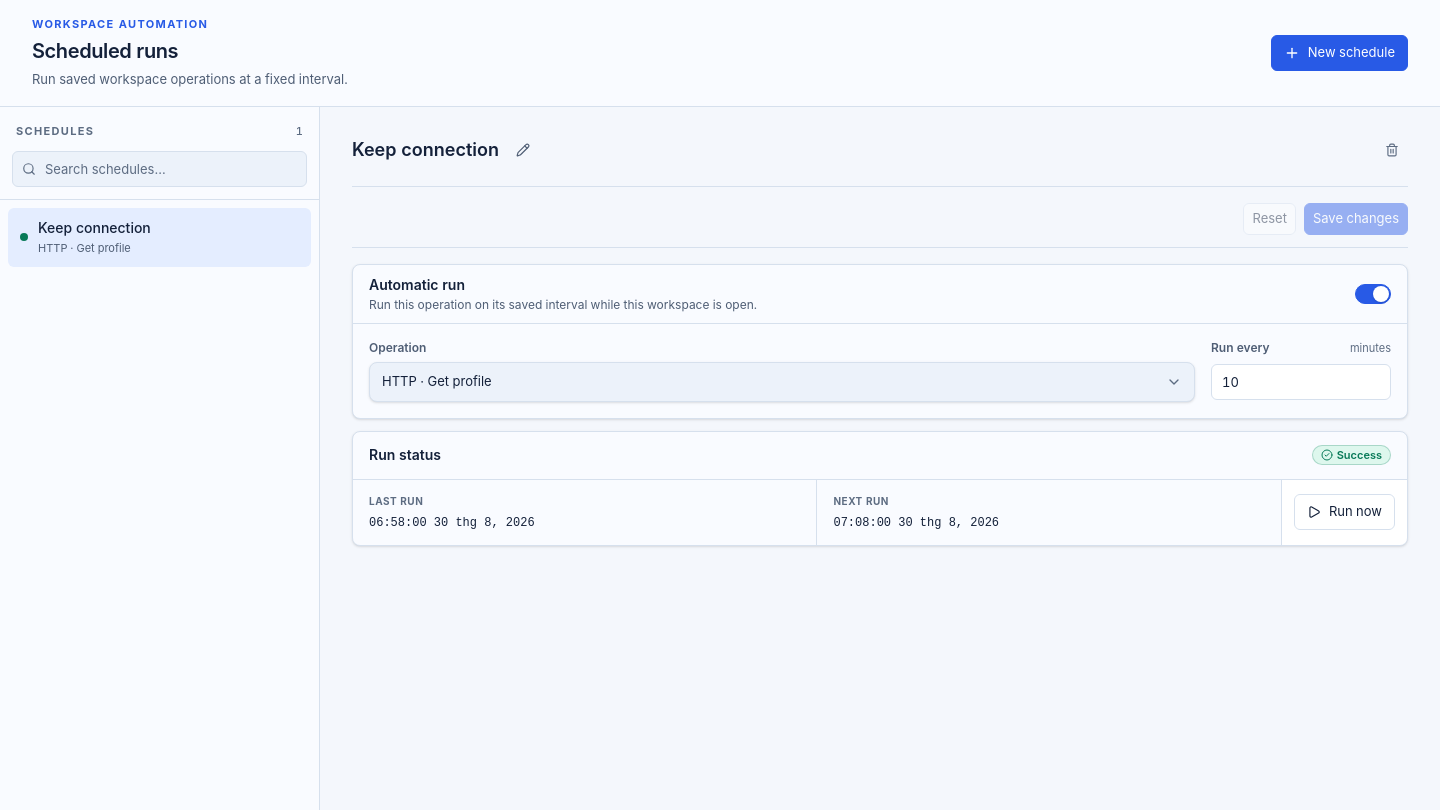
it: Scheduled runs › keeps edits as a draft until Save changes
The width and height of the screenshot is (1440, 810).
Click the button named "Rename schedule": point(523, 150) x1=507 y1=134 x2=539 y2=166
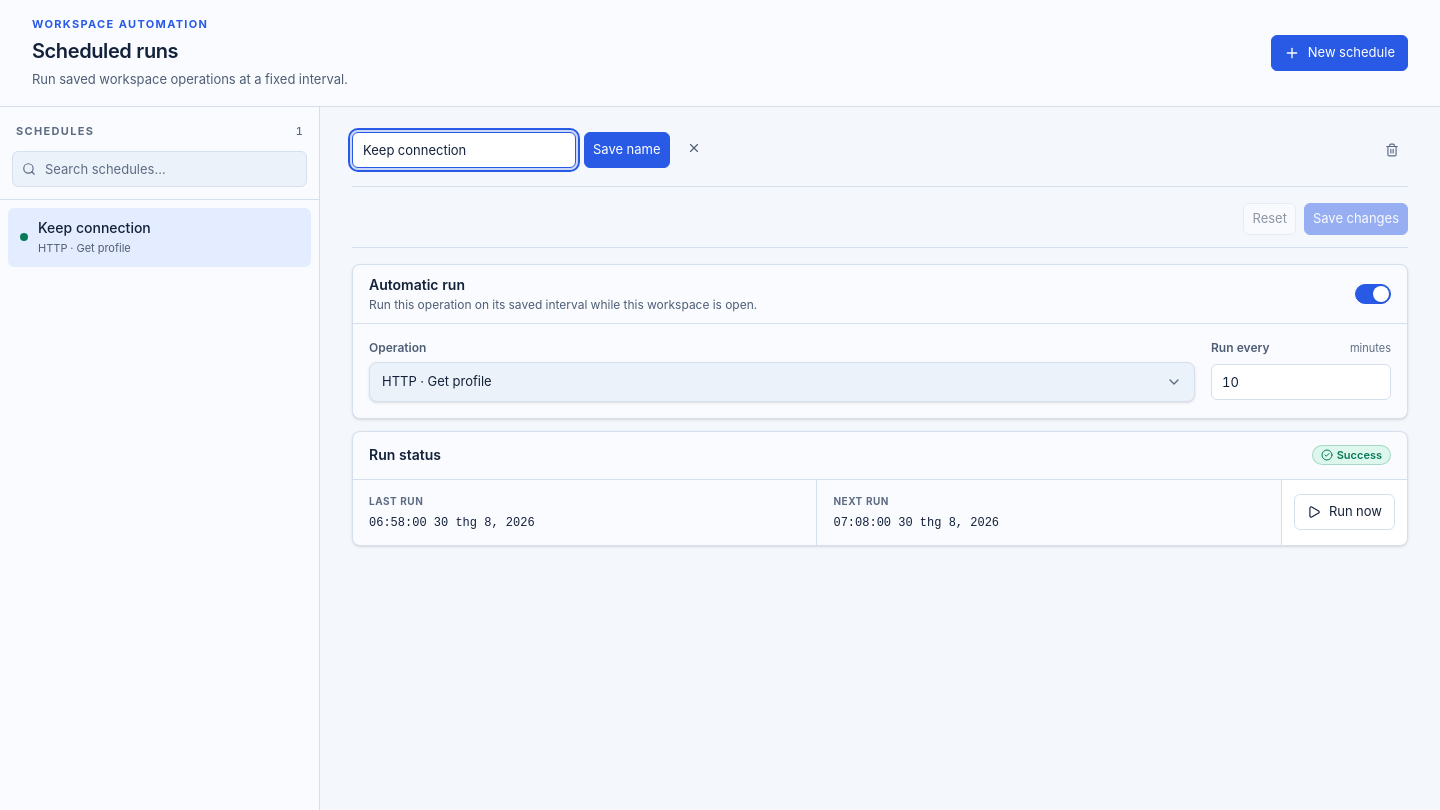
Replace the text in the field named "Schedule name" with "Refresh session": point(464, 150) x1=352 y1=132 x2=576 y2=168
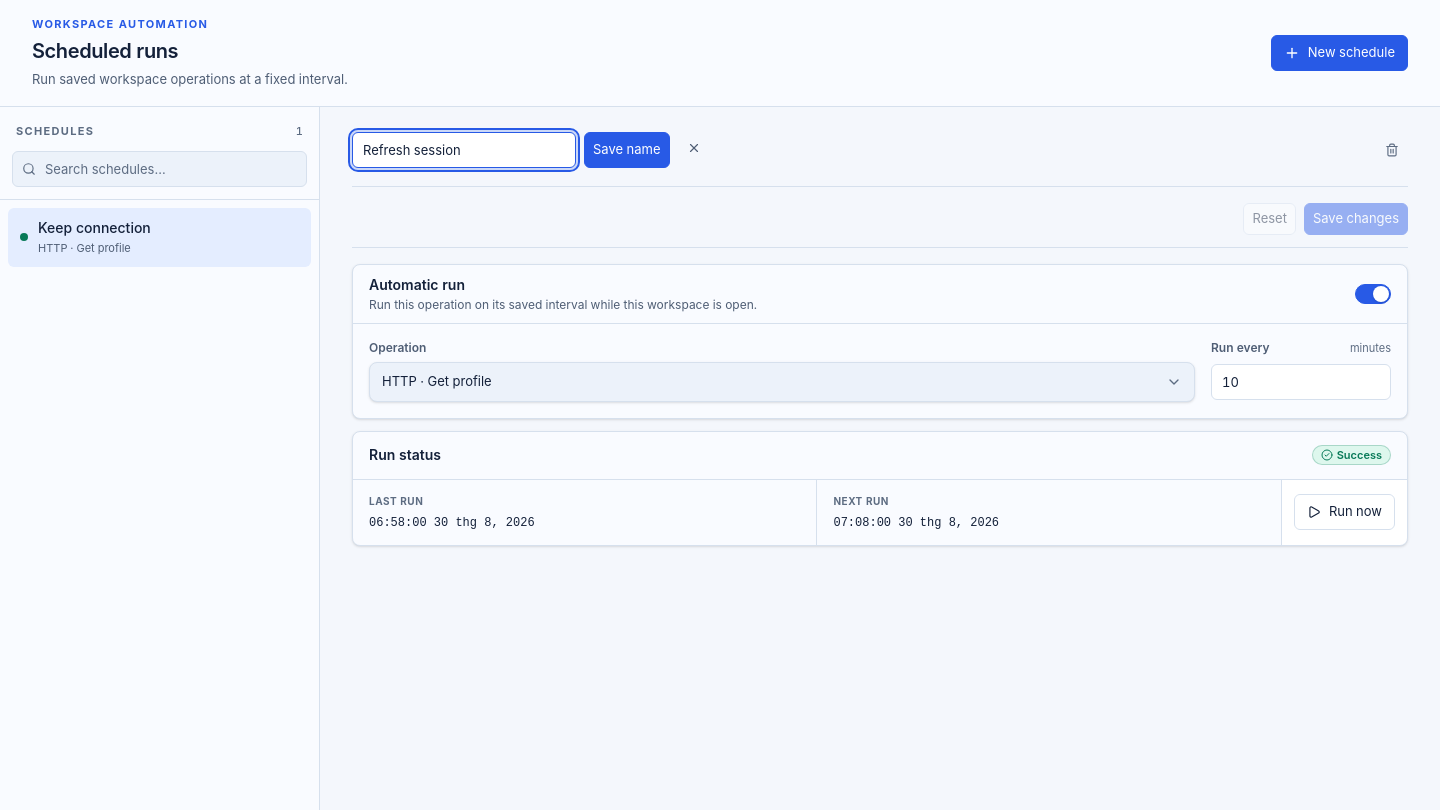
Click the button "Save name": point(627, 150) x1=584 y1=132 x2=670 y2=168
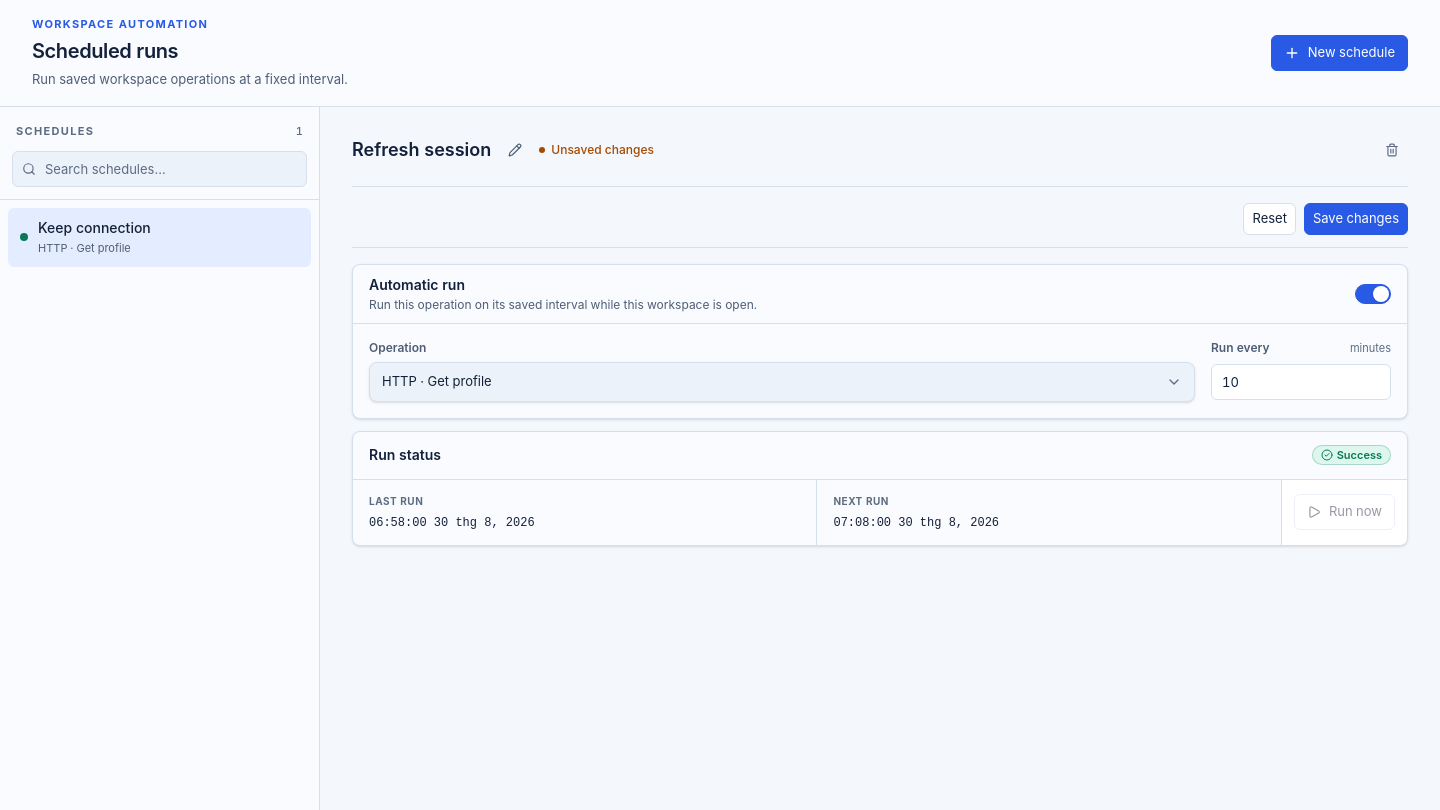
Expected: the text "Keep connection" is shown, x1=38 y1=219 x2=151 y2=236
Expected: the text "Unsaved changes" is shown, x1=539 y1=142 x2=654 y2=158
Click the button "Save changes": point(1356, 219) x1=1304 y1=203 x2=1408 y2=235
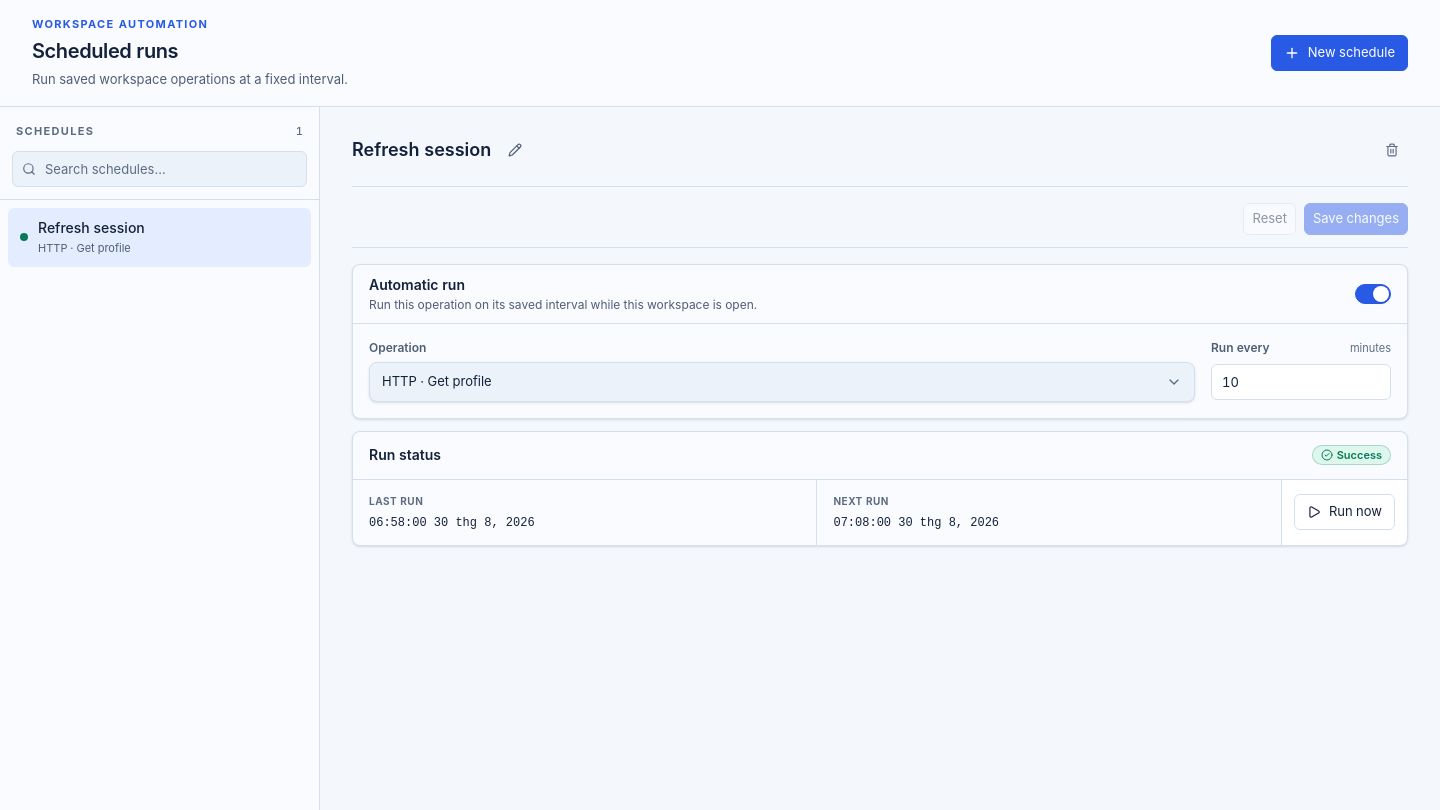
Expected: the text "Refresh session" is shown, x1=38 y1=219 x2=145 y2=236
